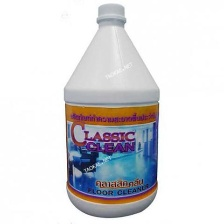cleaning_solution: (61, 0, 162, 221)
